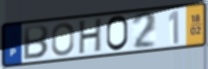1: (168, 9, 180, 45)
2: (131, 11, 158, 52)
B: (22, 23, 50, 61)
H: (77, 17, 103, 56)
O: (105, 14, 130, 52), (50, 21, 75, 57)
